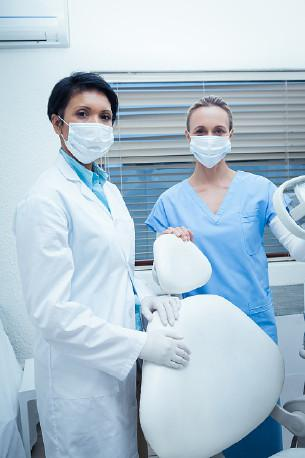OK: (64, 103, 123, 162), (188, 117, 231, 165)
